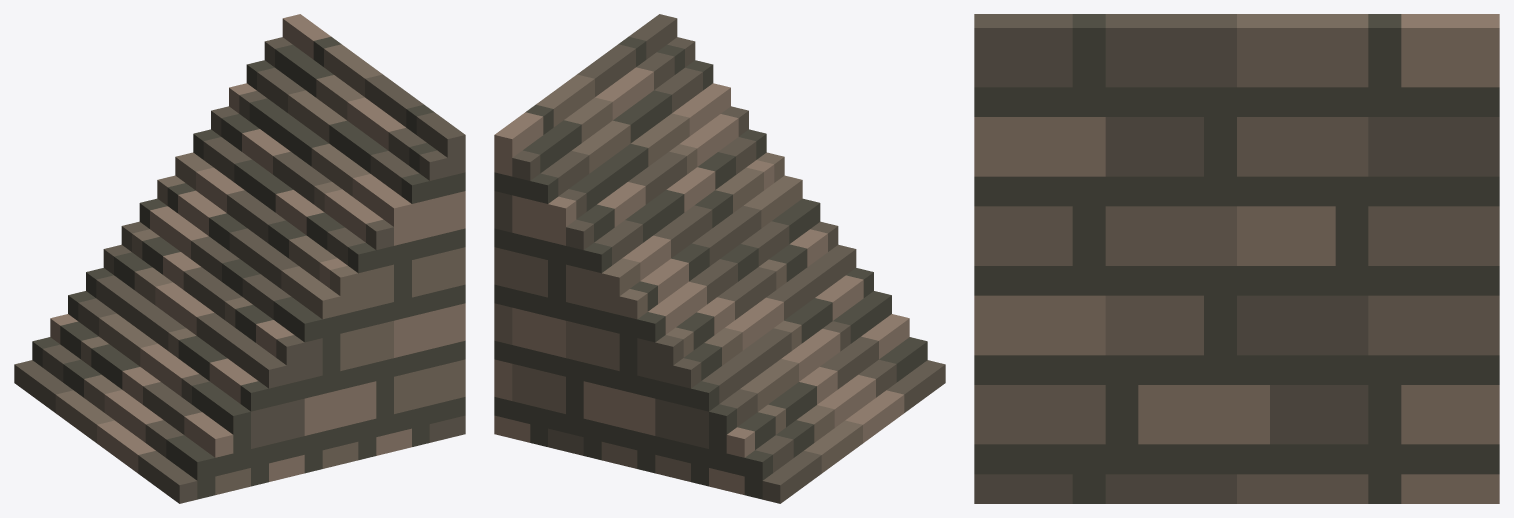
Rendered from tile_stairs_stone.gltf.
The picture shows the model from 3 angles, left to right: view 1: azimuth 30°, elevation 25°; view 2: azimuth 150°, elevation 25°; view 3: azimuth 270°, elevation 25°; orthographic projection. The views are drawn at different scales.
Parts seen in each view (by area): view 1: tile_stairs_stone; view 2: tile_stairs_stone; view 3: tile_stairs_stone.
Boxes of the visible parts, x1,y1,x2,y2 form: tile_stairs_stone: (14, 14, 465, 503); tile_stairs_stone: (494, 14, 945, 503); tile_stairs_stone: (974, 14, 1499, 503).
Bounding box in the file's own units: 1.6 × 1.6 × 1.6.
1 material, 1 textured.
